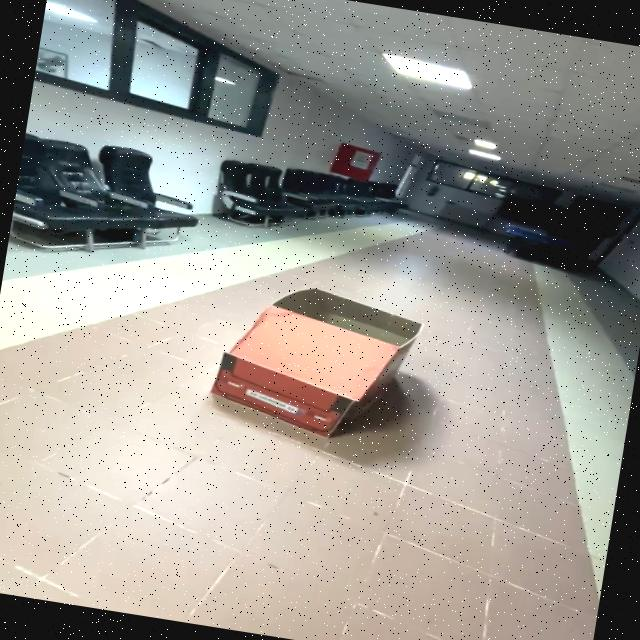red_car: (204, 270, 458, 469)
